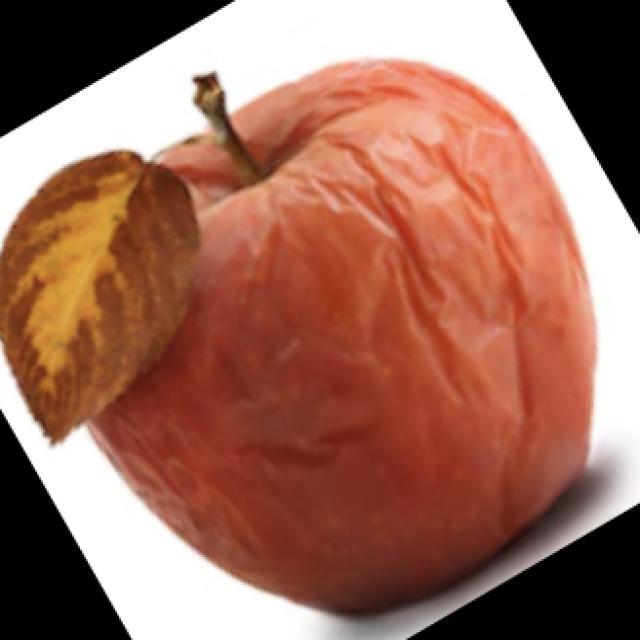Rotten: (15, 46, 617, 616)
